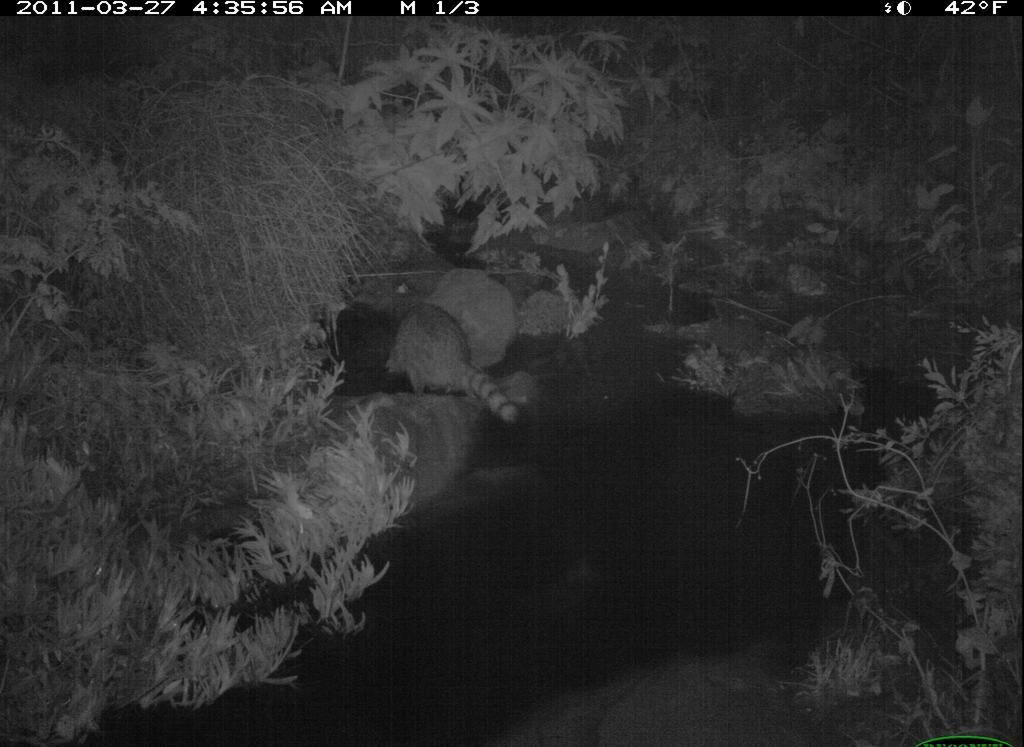raccoon: (353, 296, 534, 432)
